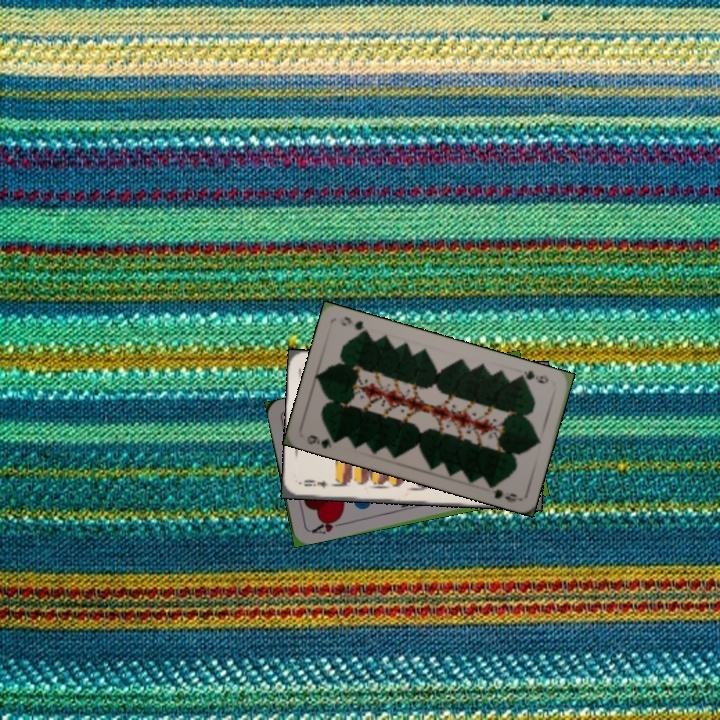E9: (300, 476, 331, 491)
G9: (303, 431, 342, 451), (514, 366, 551, 387)
HA: (306, 513, 346, 537)
